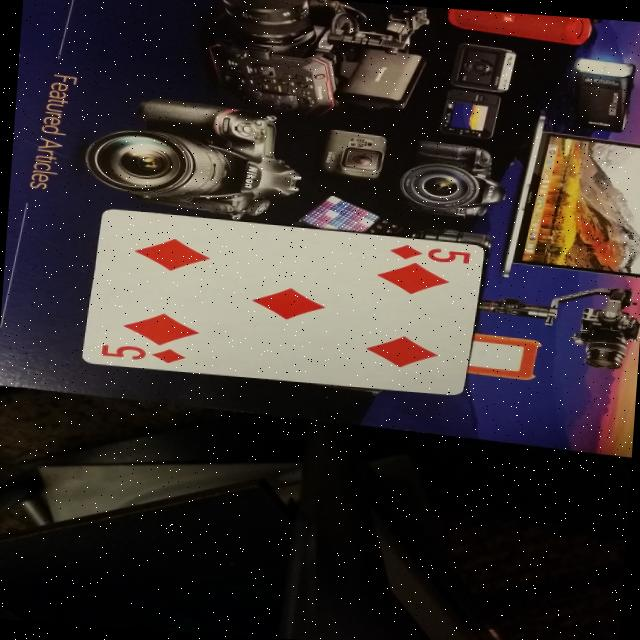5d: (89, 337, 198, 370), (373, 238, 472, 269)
